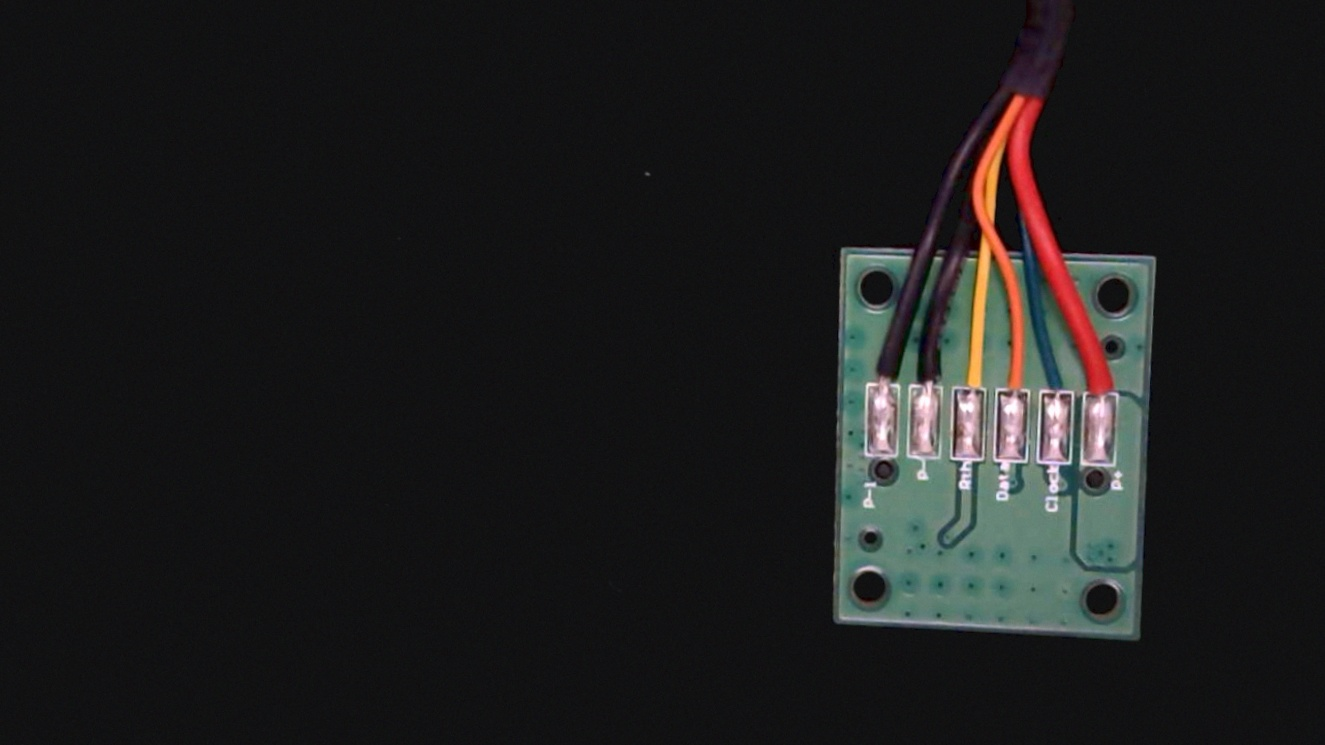Black: (908, 330, 947, 408)
Black1: (865, 325, 903, 406)
Green: (1039, 336, 1076, 415)
Orange: (995, 340, 1033, 410)
Red: (1084, 339, 1122, 417)
Yellow: (953, 327, 992, 410)
